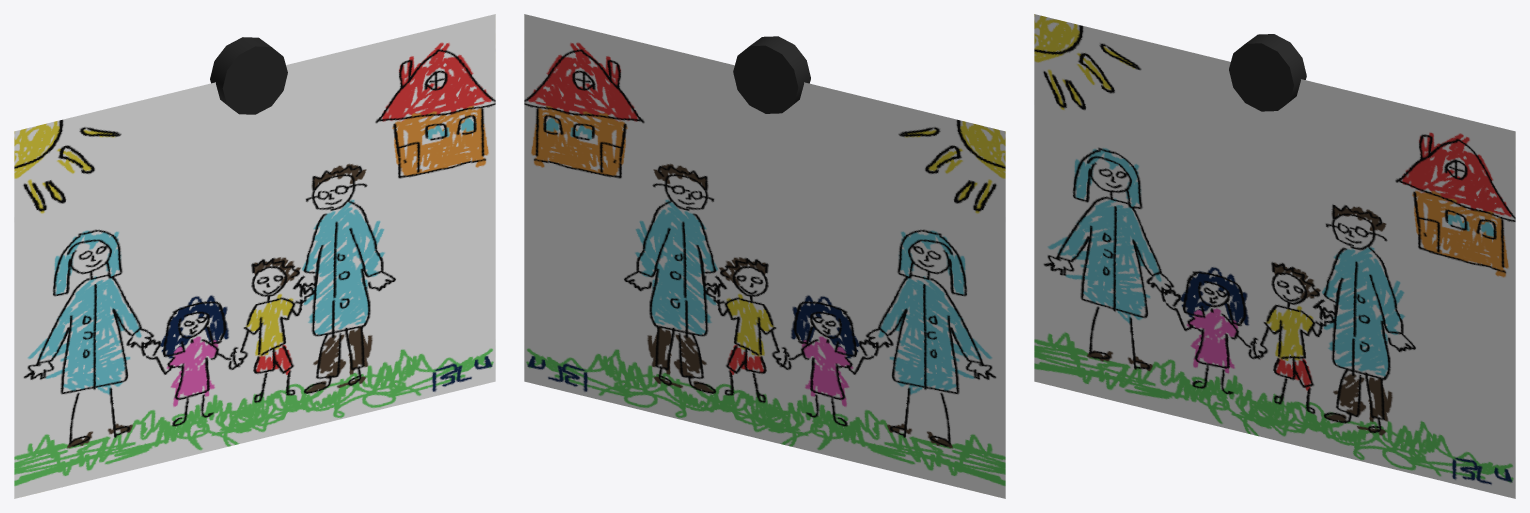
File: Kitchen_Drawing.fbx
3 renders of one model, left to right at view 1: azimuth 30°, elevation 25°; view 2: azimuth 150°, elevation 25°; view 3: azimuth 330°, elevation 25°, orthographic.
Parts seen in each view (by area): view 1: Drawing; view 2: Drawing; view 3: Drawing.
Part boxes in pixels (x1=…): Drawing: x1=14, y1=14, x2=495, y2=498; Drawing: x1=524, y1=14, x2=1005, y2=498; Drawing: x1=1034, y1=14, x2=1515, y2=498.
Bounding box in the file's own units: 36.03 × 28.65 × 1.65.
2 materials, 1 textured.
